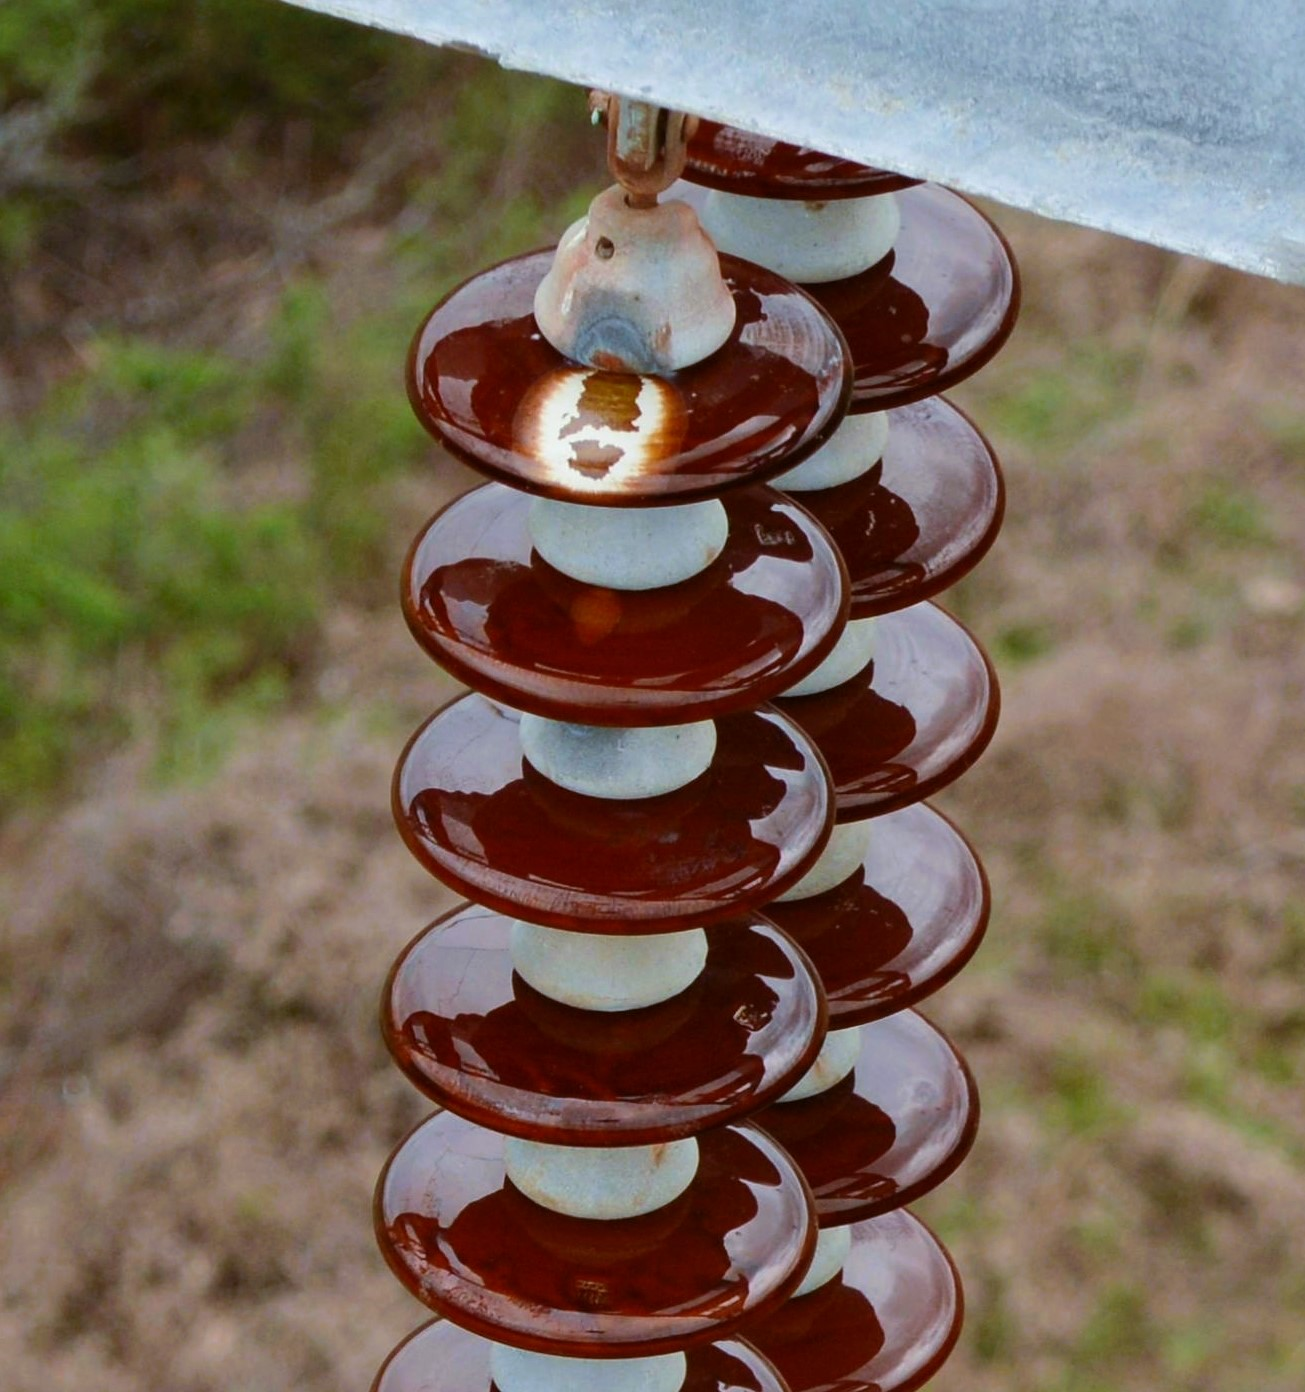Insulator flashover: (397, 234, 863, 509)
